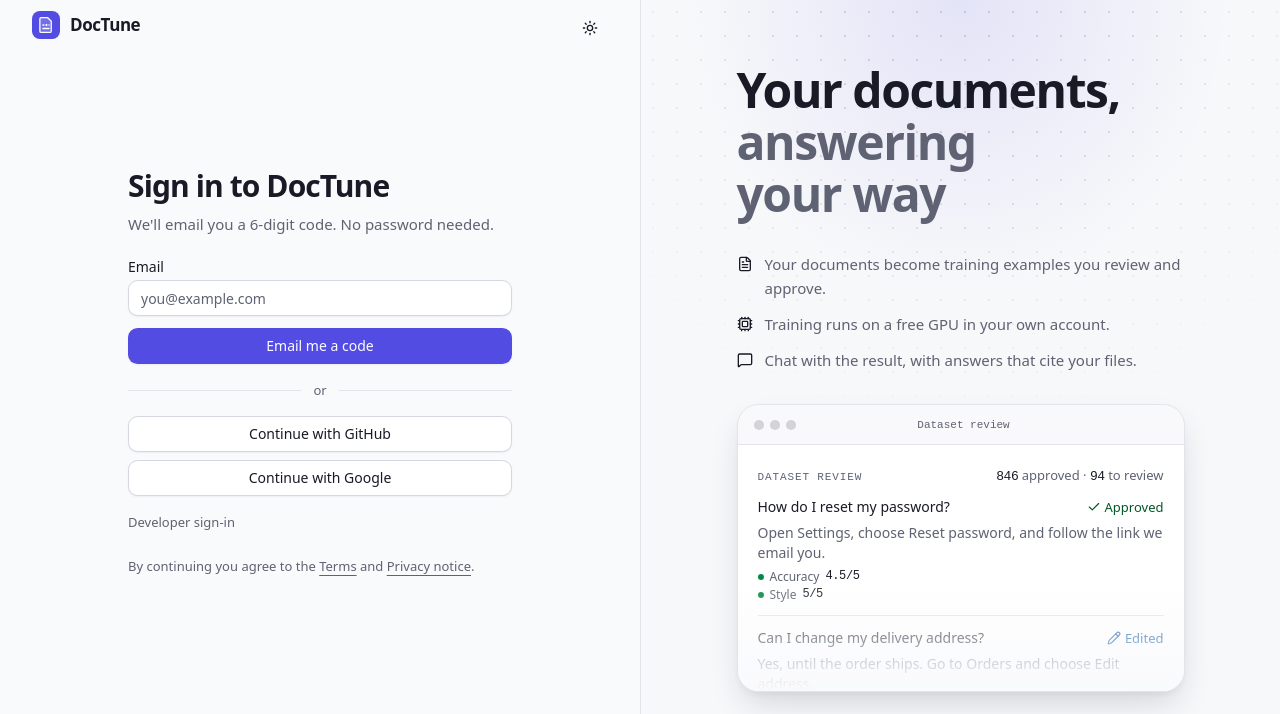
Test case: SignIn with an email code › shows a clear message for a wrong code
Type "alice@example.com" into the field labelled "Email" at (320,298), box [128, 280, 512, 316]
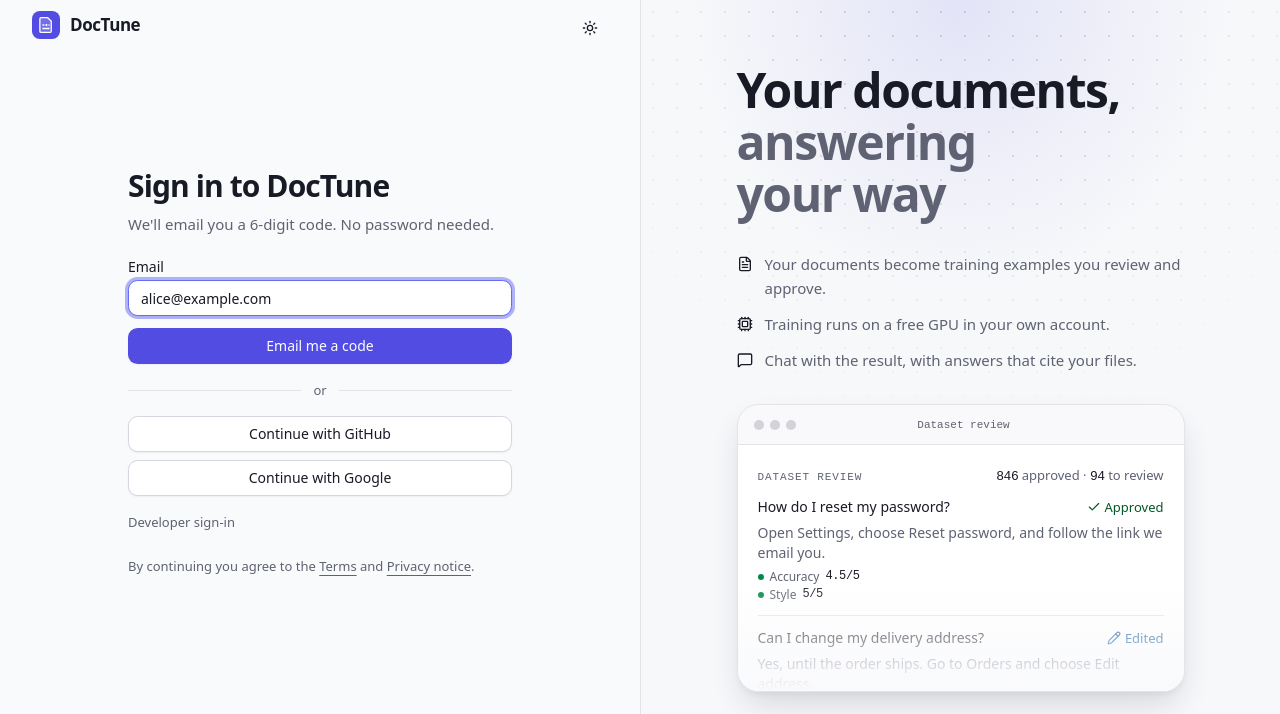
Click the button "Email me a code" at (320,346), box [128, 328, 512, 364]
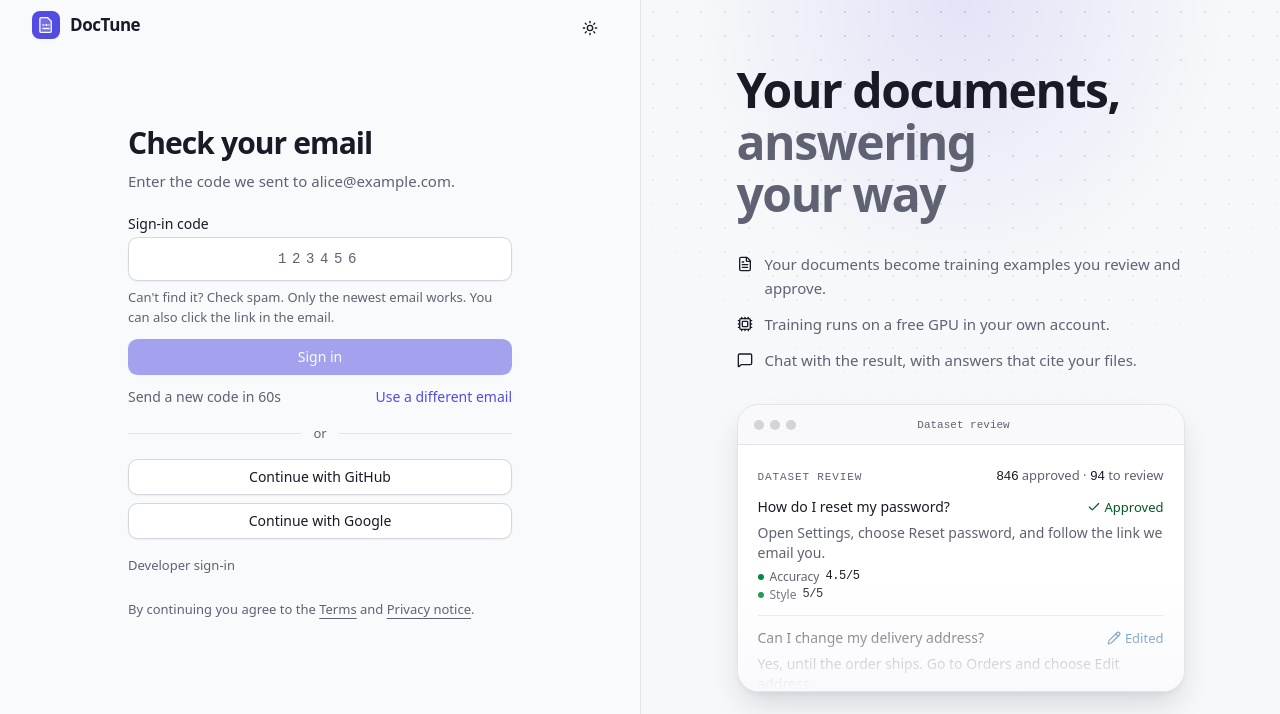
Type "000000" into the field labelled "Sign-in code" at (320,259), box [128, 237, 512, 281]
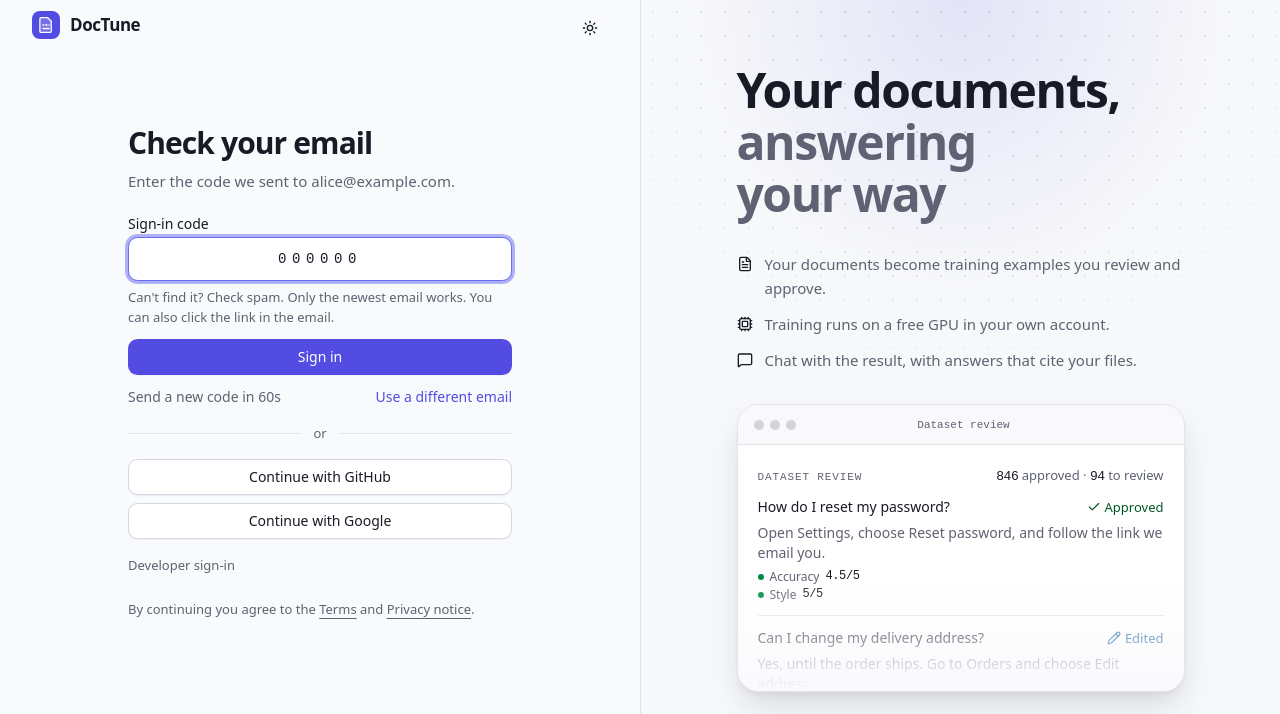
Click the button "Sign in" at (320,357), box [128, 339, 512, 375]
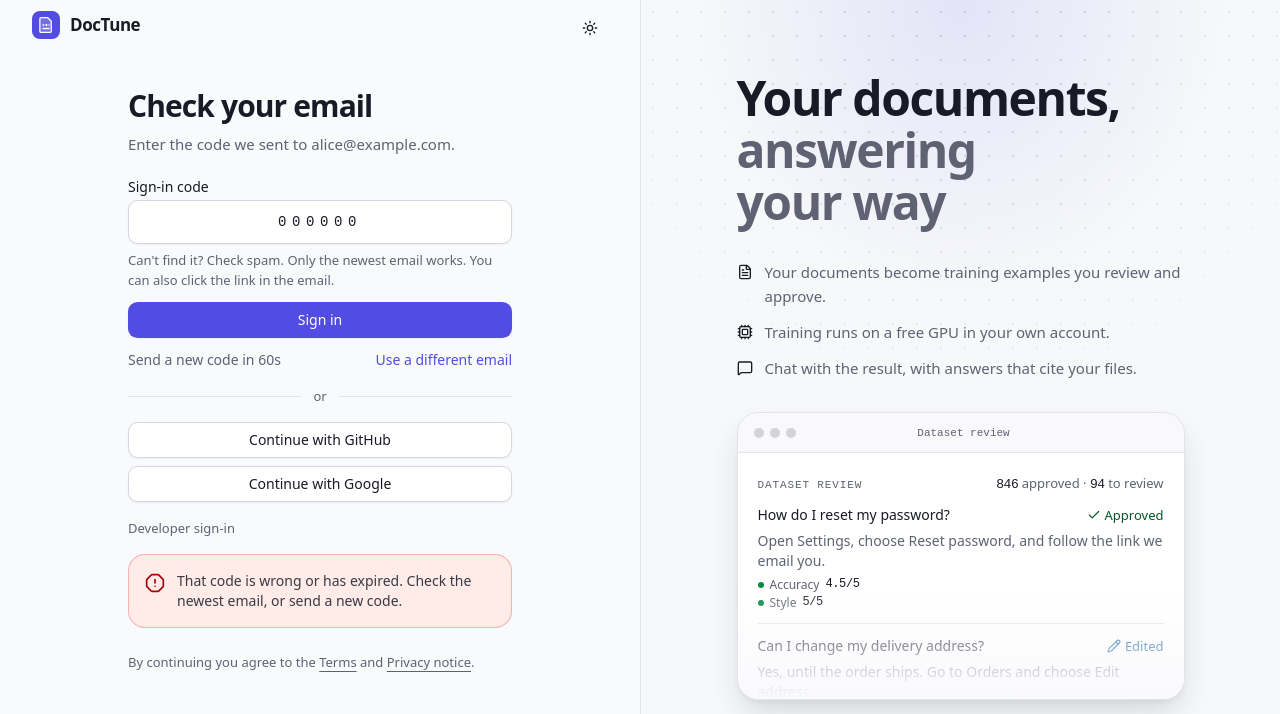
expect the message shows "wrong or has expired": met, box [177, 571, 471, 610]
